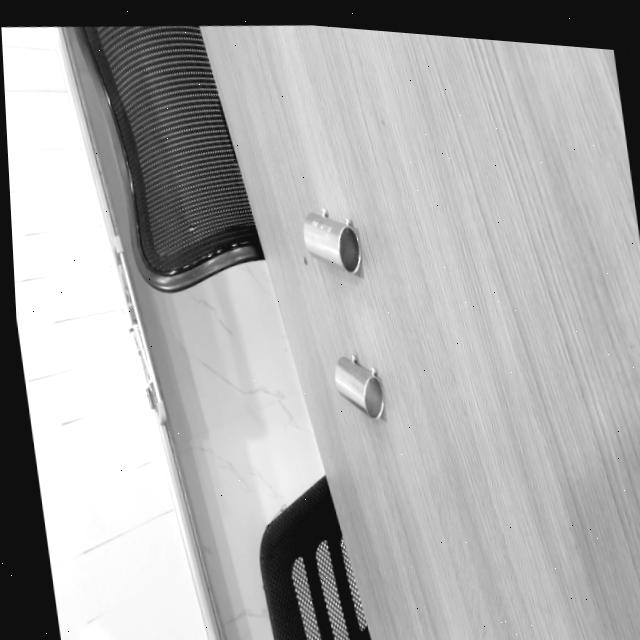Co_Lon: (291, 204, 374, 276)
Co_Nho: (321, 350, 401, 422)
